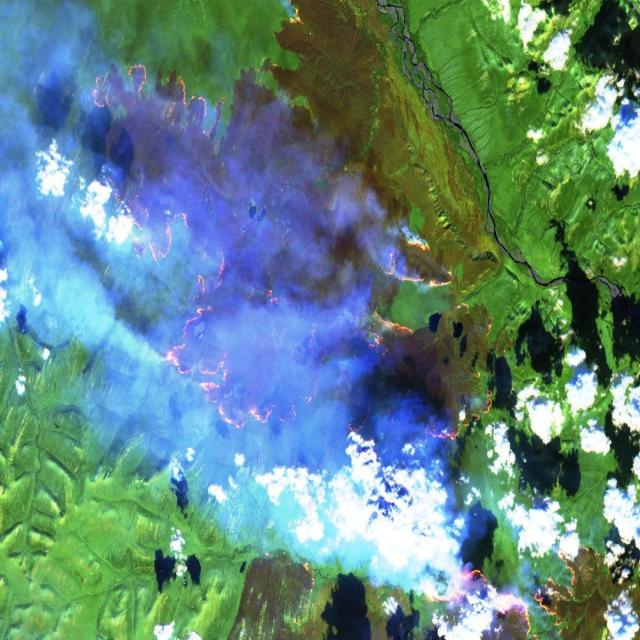fire: (0, 19, 544, 640)
